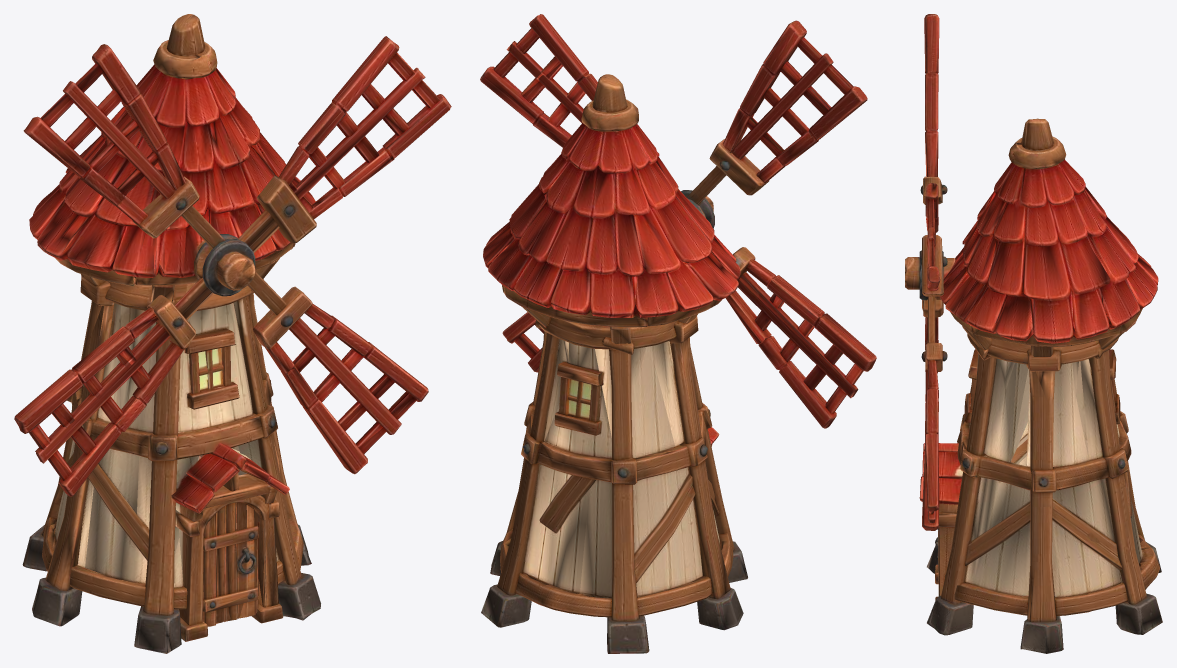
File: wooden_windmill.glb
The picture shows the model from 3 angles, left to right: view 1: azimuth 30°, elevation 25°; view 2: azimuth 150°, elevation 25°; view 3: azimuth 270°, elevation 25°; orthographic projection. The views are drawn at different scales.
Visible parts, largest first — view 1: wooden_windmill; view 2: wooden_windmill; view 3: wooden_windmill.
Boxes of the visible parts, x1=… form: wooden_windmill: x1=14, y1=14, x2=451, y2=653; wooden_windmill: x1=480, y1=14, x2=876, y2=653; wooden_windmill: x1=905, y1=14, x2=1162, y2=653.
Size of the model in its own units: 2.05 by 2.8 by 1.24.
Materials: 1 (1 with a texture image).
